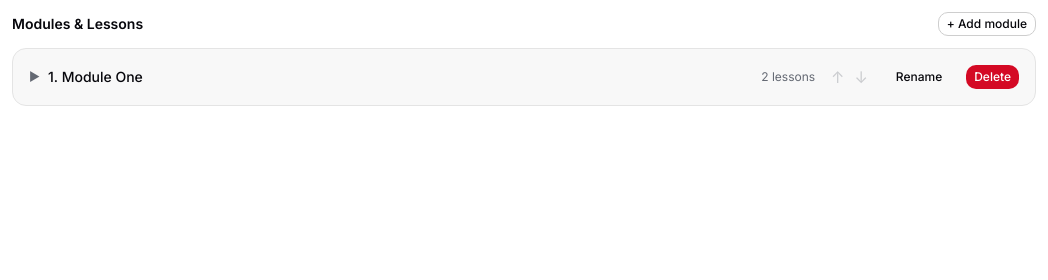
Test: ModuleManager — quiz builder › renders 'Quiz Builder ▼' toggle for quiz lessons
Click the text "1. Module One".
click(95, 76)  # box [48, 68, 143, 85]
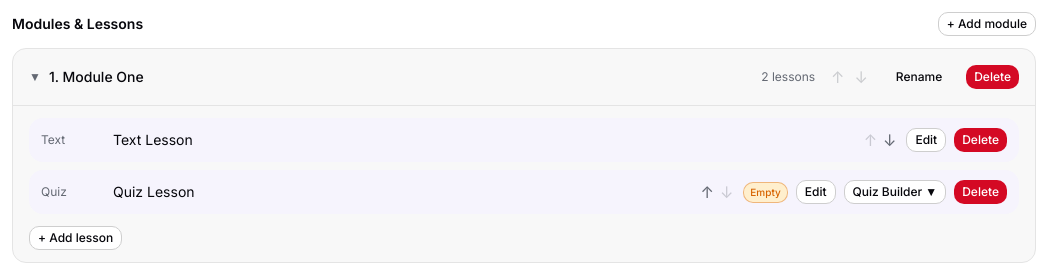
Now the button with test id "toggle-quiz-builder-lesson-quiz" reads "Quiz Builder ▼", box [844, 180, 946, 204]
